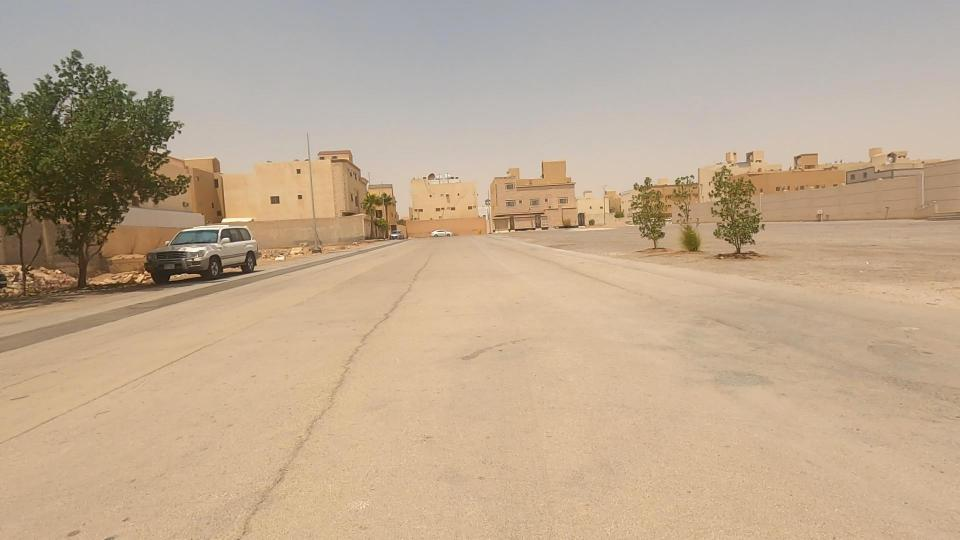GARBAGE: (233, 217, 339, 289)
